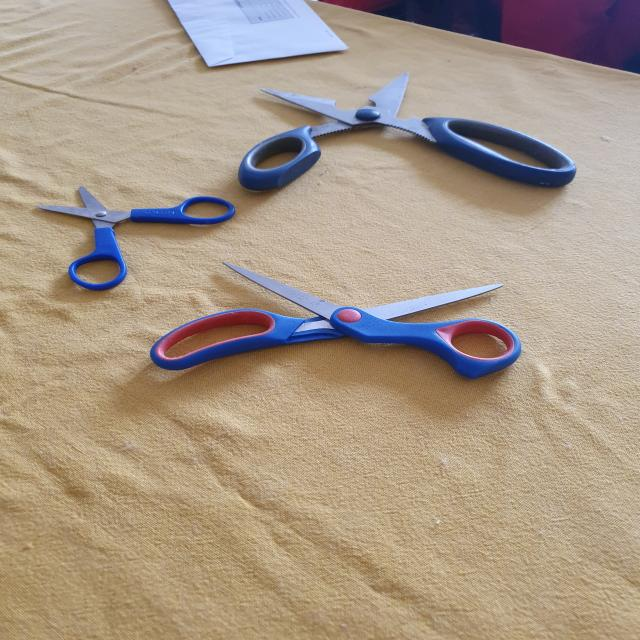scissors: (157, 261, 525, 384), (237, 72, 578, 188), (34, 188, 238, 296)
